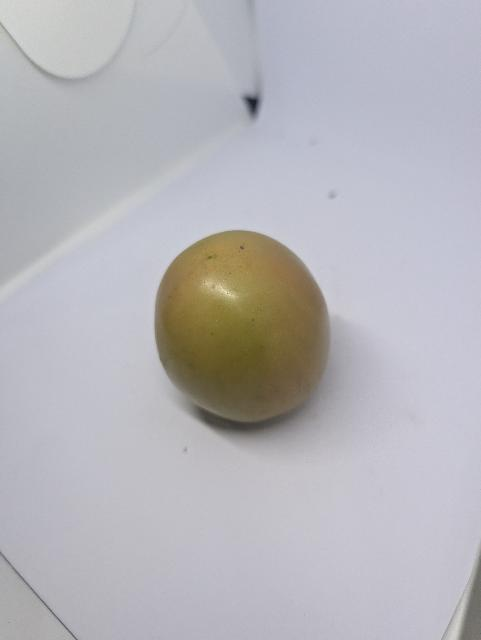breaker: (146, 228, 340, 429)
